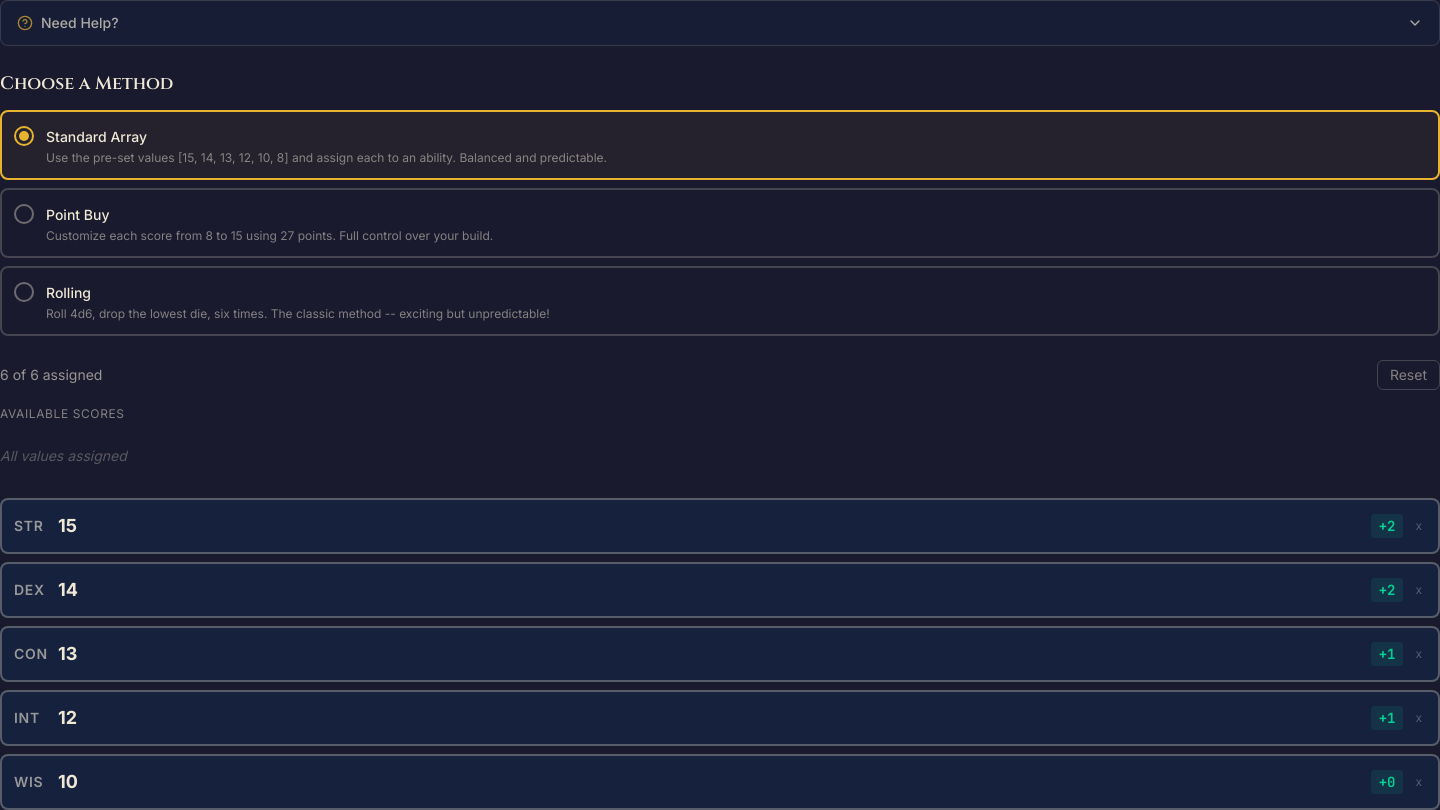
Test: AbilityScoreStep › should reset assignments when confirming method switch
Attempt to switch to Point Buy
Click the text "Point Buy": (78, 214) [46,206,110,223]
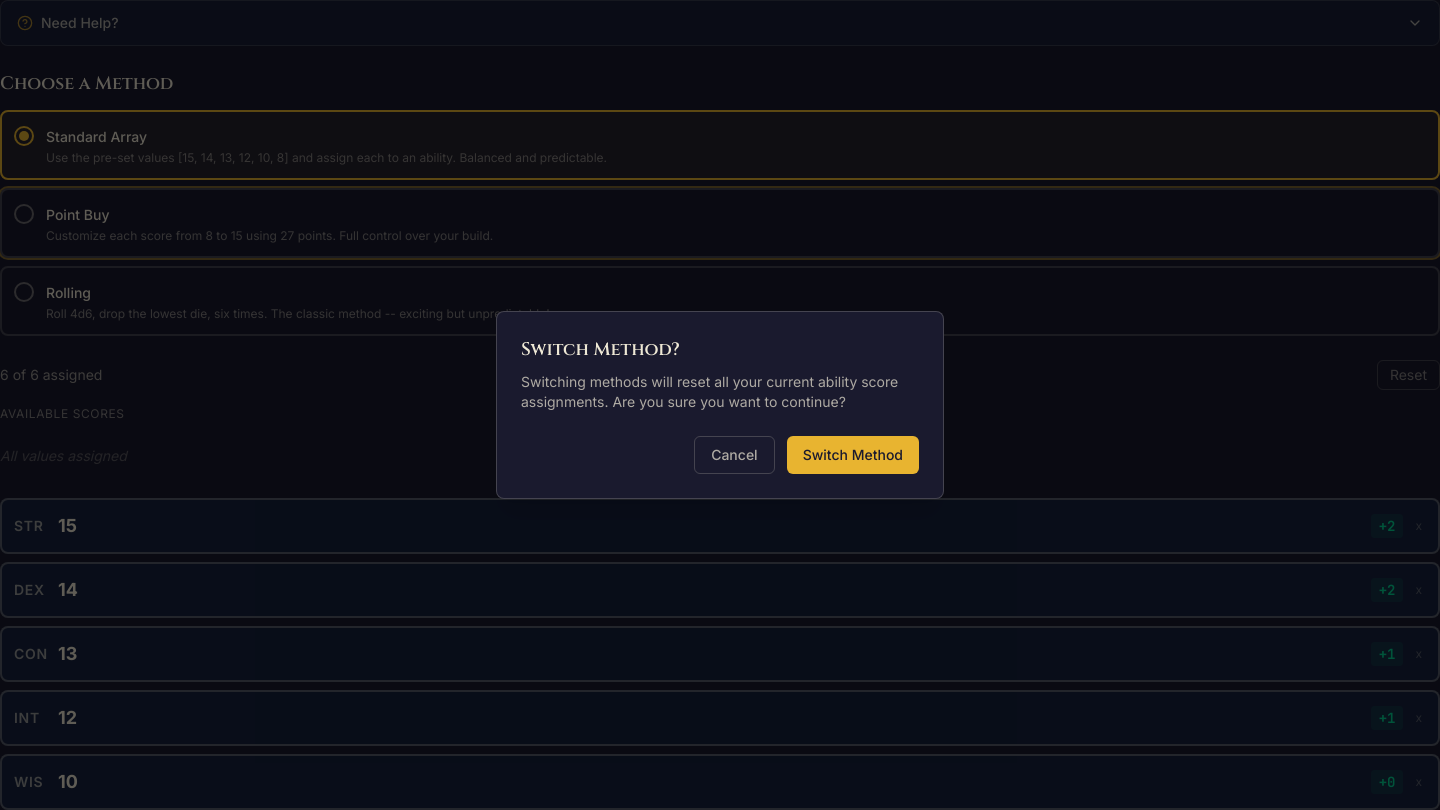
Expected: the element with test id "confirm-method-switch-dialog" is shown
Confirm switch
Click the button with test id "confirm-switch-button": (853, 455) [787,436,919,474]
(page scrolled)
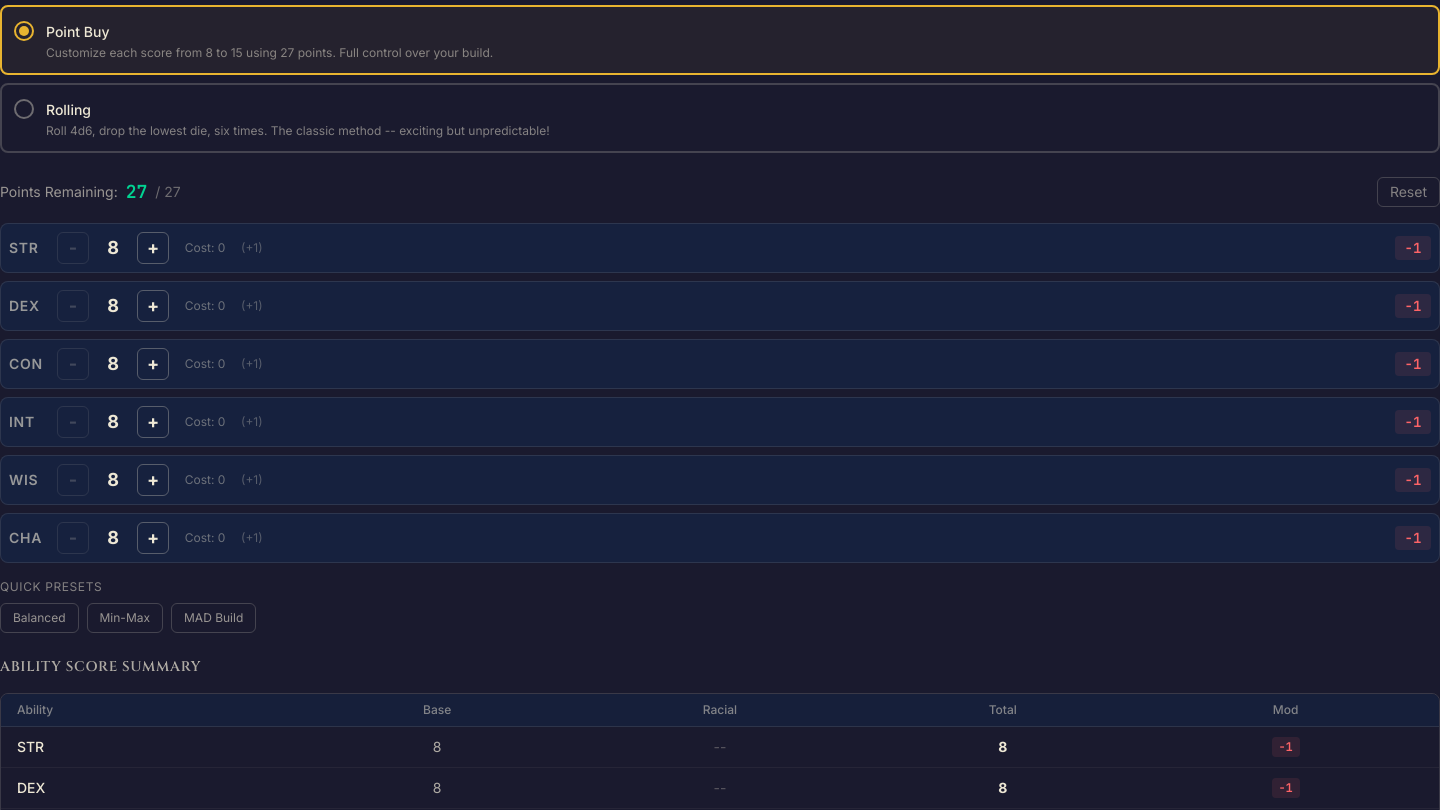
Expected: the element with test id "point-buy-allocator" is shown, [0,177,1439,633]
Expected: the element with test id "confirm-method-switch-dialog" is gone
